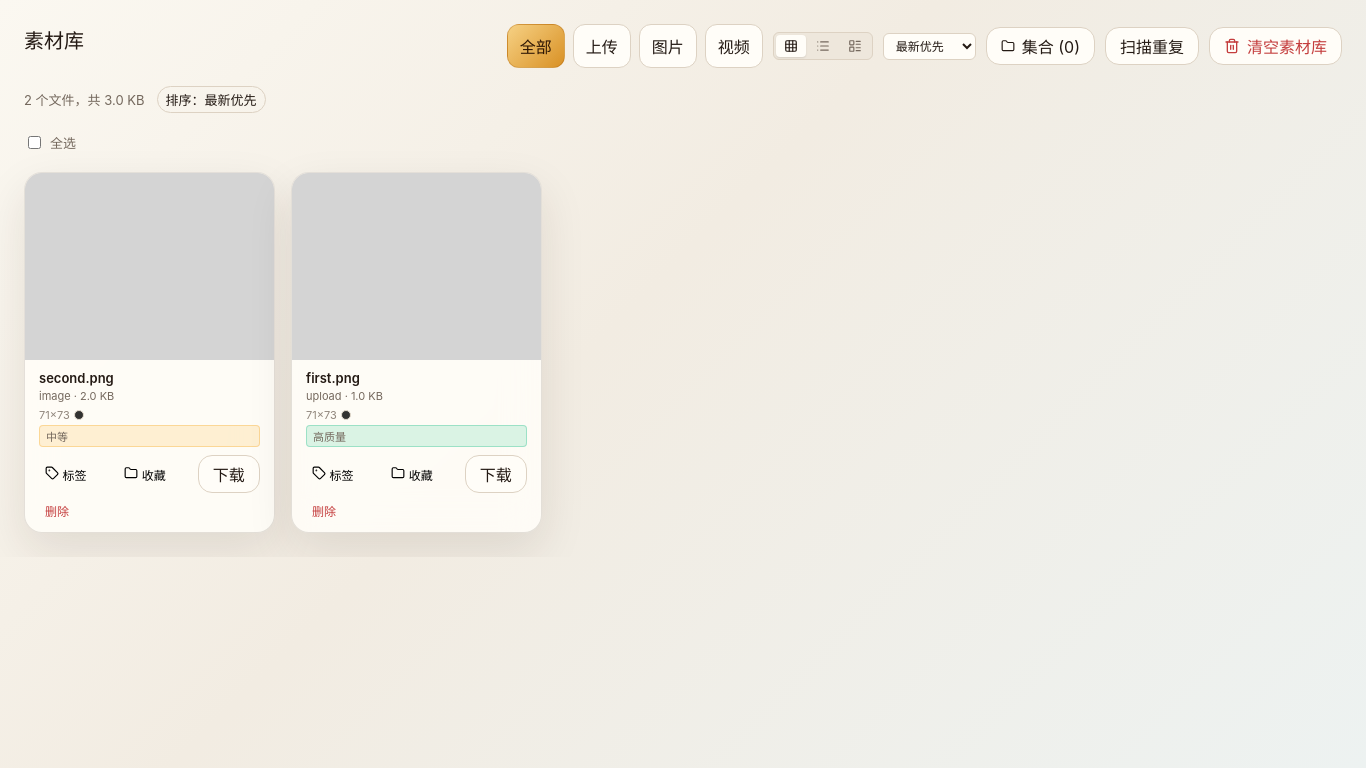
AssetWorkspace › reports partial failures when deleting selected assets
Click the checkbox labelled "全选" at (34, 142), box x1=28 y1=136 x2=41 y2=149
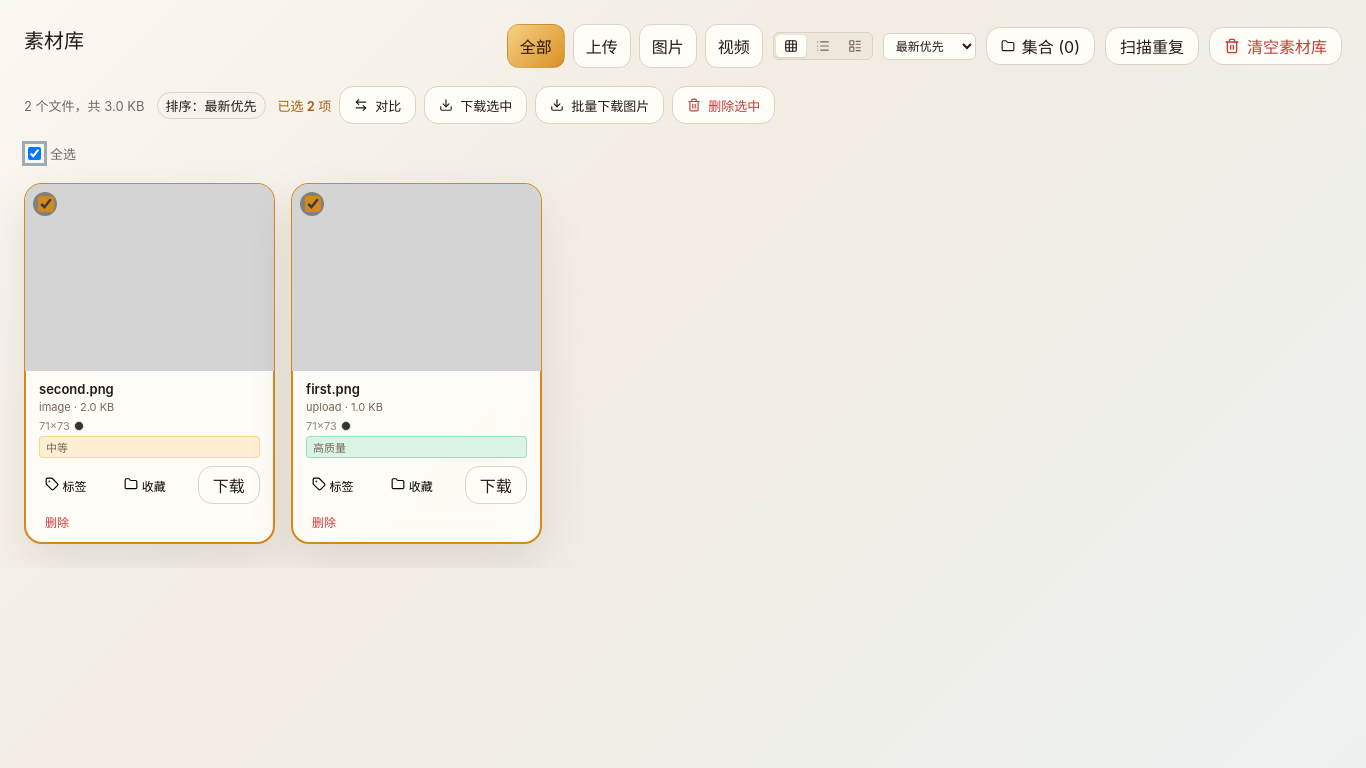
Click the button "删除选中" at (724, 105), box x1=672 y1=86 x2=775 y2=124
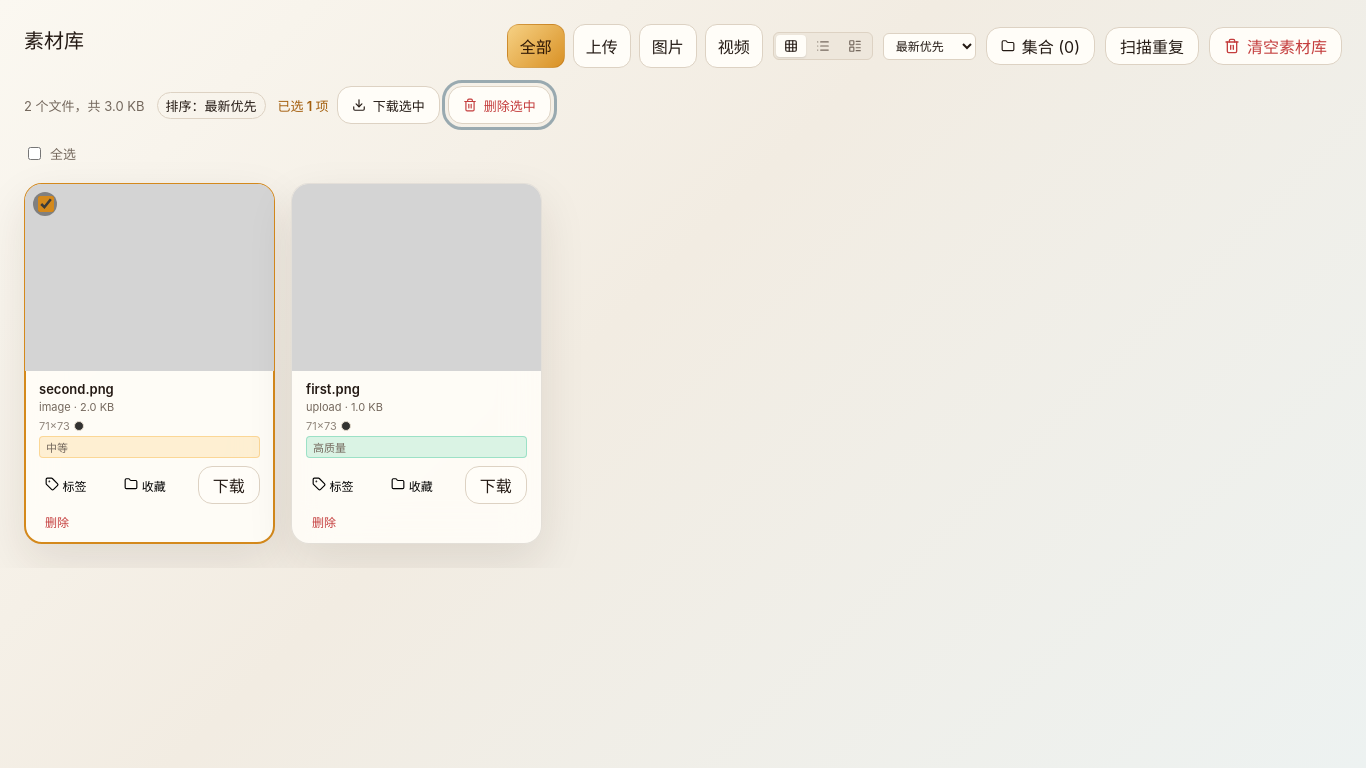
Now the checkbox named "选择素材 second.png" is checked, box x1=38 y1=196 x2=54 y2=212
Now the text "已选 1 项" is shown, box x1=278 y1=96 x2=329 y2=114
